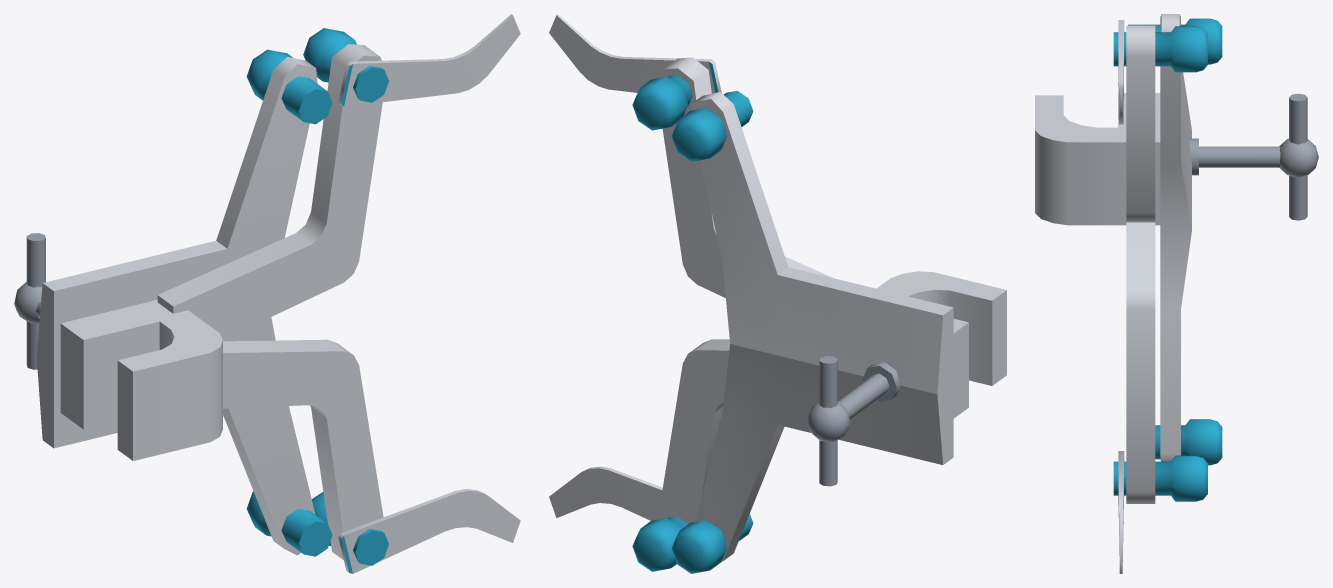
File: clamp_titration_clamp_004.glb
3 views of the same model, side by side, from view 1: azimuth 30°, elevation 25°; view 2: azimuth 150°, elevation 25°; view 3: azimuth 270°, elevation 25° (orthographic). The views are drawn at different scales.
Visible parts, largest first — view 1: clamp_titration_clamp.004, clamp_titration_clamp.005, clamp_titration_clamp_screw; view 2: clamp_titration_clamp.004, clamp_titration_clamp.005, clamp_titration_clamp_screw; view 3: clamp_titration_clamp.004, clamp_titration_clamp.005, clamp_titration_clamp_screw.
Boxes of the visible parts, left/top/right/bottom form: clamp_titration_clamp.004: left=36, top=14, right=520, bottom=573; clamp_titration_clamp.005: left=60, top=300, right=222, bottom=460; clamp_titration_clamp_screw: left=14, top=233, right=45, bottom=369; clamp_titration_clamp.004: left=549, top=14, right=953, bottom=573; clamp_titration_clamp.005: left=877, top=271, right=1006, bottom=418; clamp_titration_clamp_screw: left=807, top=356, right=900, bottom=486; clamp_titration_clamp.004: left=1113, top=14, right=1222, bottom=573; clamp_titration_clamp.005: left=1035, top=93, right=1160, bottom=225; clamp_titration_clamp_screw: left=1189, top=93, right=1318, bottom=220.
Bounding box in the file's own units: 15.26 × 17.3 × 9.09.
1 material, 1 textured.
